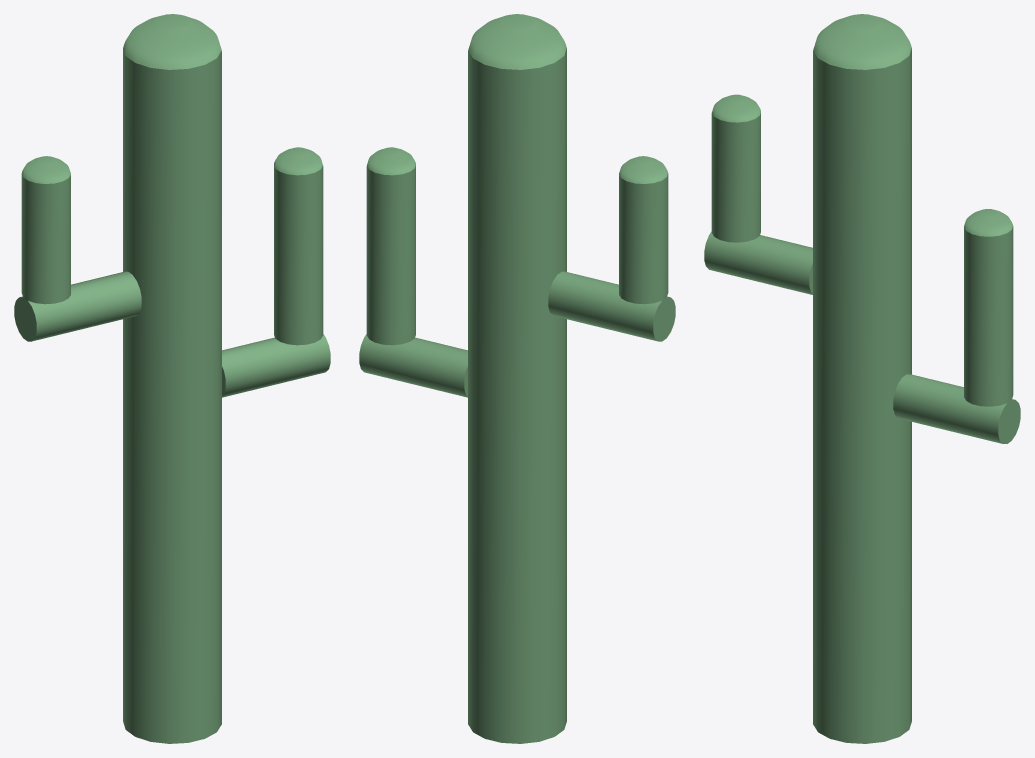
Rendered from cactus.glb.
3 renders of one model, left to right at view 1: azimuth 30°, elevation 25°; view 2: azimuth 150°, elevation 25°; view 3: azimuth 330°, elevation 25°, orthographic.
Parts seen in each view (by area): view 1: trunk, arm_r_v, arm_l_v, arm_l_h, arm_r_h, crown, arm_r_top, arm_l_top; view 2: trunk, arm_r_v, arm_l_v, arm_l_h, arm_r_h, crown, arm_r_top, arm_l_top; view 3: trunk, arm_r_v, arm_l_v, arm_r_h, arm_l_h, crown, arm_l_top, arm_r_top.
Boxes of the visible parts, x1,y1,x2,y2 form: trunk: (123, 48, 221, 743); arm_r_v: (274, 165, 323, 345); arm_l_v: (21, 173, 70, 304); arm_l_h: (14, 271, 141, 341); arm_r_h: (222, 334, 330, 397); crown: (123, 14, 221, 69); arm_r_top: (274, 147, 322, 175); arm_l_top: (22, 156, 70, 183); trunk: (468, 48, 566, 743); arm_r_v: (366, 165, 415, 345); arm_l_v: (619, 173, 668, 304); arm_l_h: (548, 271, 675, 341); arm_r_h: (359, 334, 467, 397); crown: (468, 14, 566, 69); arm_r_top: (367, 147, 415, 175); arm_l_top: (619, 156, 667, 183); trunk: (813, 48, 911, 743); arm_r_v: (964, 226, 1013, 406); arm_l_v: (711, 113, 760, 242); arm_r_h: (893, 374, 1020, 443); arm_l_h: (704, 231, 812, 294); crown: (813, 14, 911, 69); arm_l_top: (712, 94, 760, 122); arm_r_top: (964, 209, 1012, 236).
Bounding box in the file's own units: 2.1 × 4.79 × 0.6.
